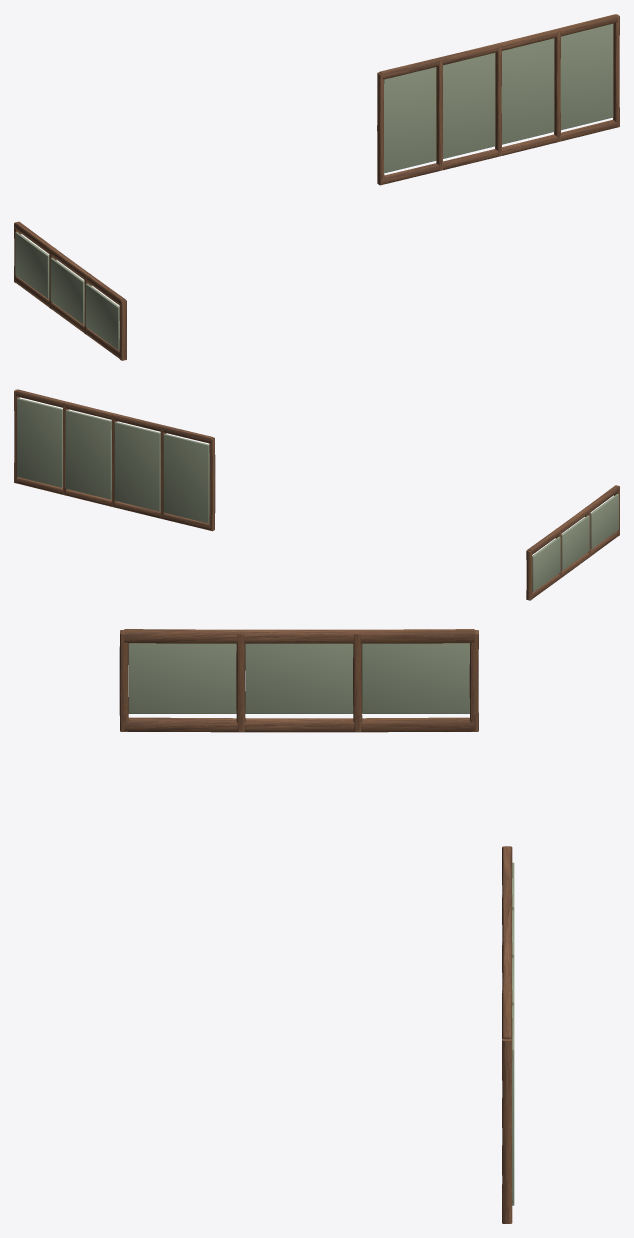
Rendered from CM_SW12_FittedPaneling.fbx.
3 views of the same model, one above another, from view 1: azimuth 30°, elevation 25°; view 2: azimuth 150°, elevation 25°; view 3: azimuth 270°, elevation 25° (orthographic). The views are drawn at different scales.
Visible parts, largest first — view 1: CM_SW12_FittedPaneling; view 2: CM_SW12_FittedPaneling; view 3: CM_SW12_FittedPaneling.
Boxes of the visible parts, left/top/right/bottom form: CM_SW12_FittedPaneling: left=14, top=14, right=619, bottom=360; CM_SW12_FittedPaneling: left=14, top=389, right=619, bottom=600; CM_SW12_FittedPaneling: left=119, top=629, right=514, bottom=1223.
Bounding box in the file's own units: 5.24 × 0.9123 × 1.76.
